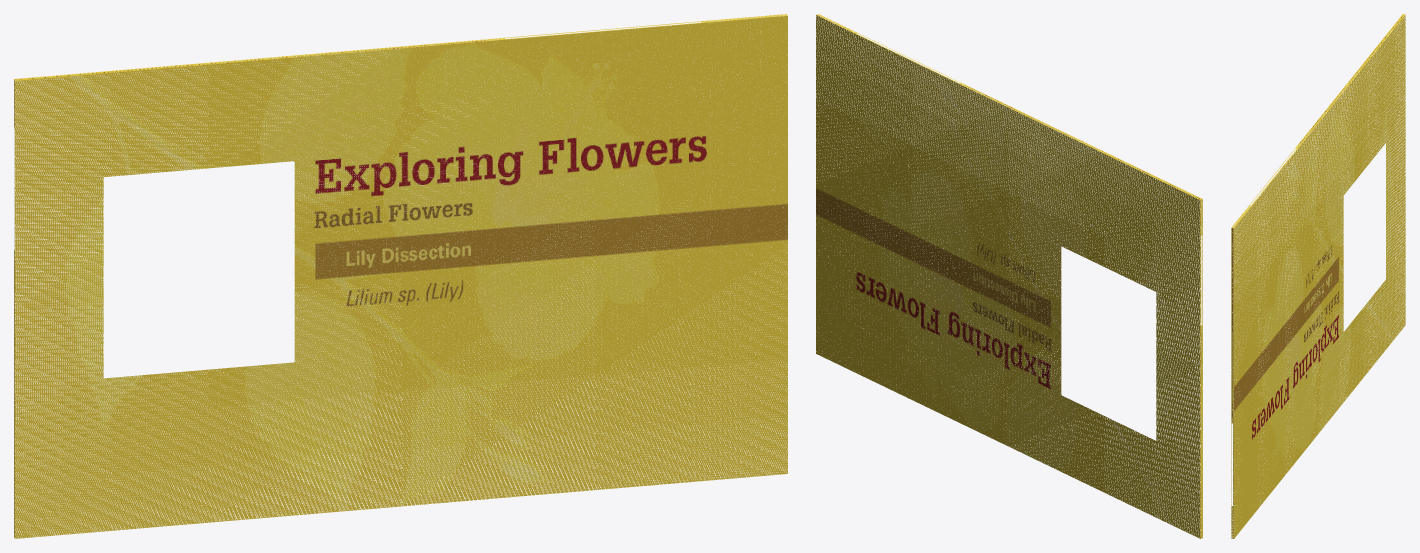
The model's file is LilySplashModel_exterior.gltf.
The picture shows the model from 3 angles, left to right: view 1: azimuth 30°, elevation 25°; view 2: azimuth 150°, elevation 25°; view 3: azimuth 270°, elevation 25°; orthographic projection. The views are drawn at different scales.
Parts seen in each view (by area): view 1: splashscreenglb; view 2: splashscreenglb; view 3: splashscreenglb.
Boxes of the visible parts, left/top/right/bottom form: splashscreenglb: left=14, top=14, right=787, bottom=538; splashscreenglb: left=816, top=14, right=1202, bottom=538; splashscreenglb: left=1231, top=14, right=1405, bottom=538.
Bounding box in the file's own units: 1.48 × 1 × 0.5094.
Materials: 1 (1 with a texture image).
